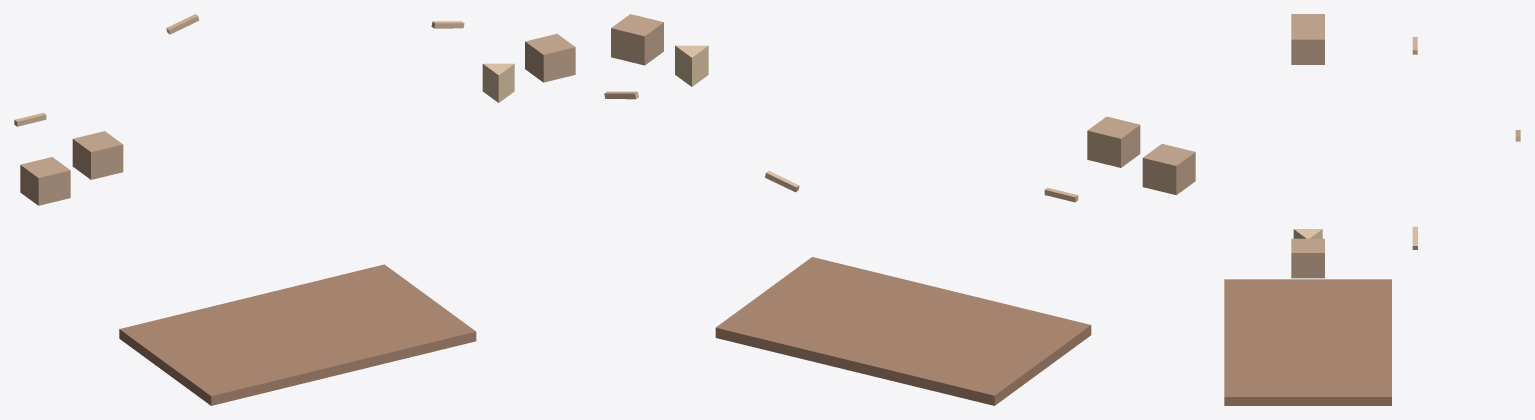
The model's file is exploded.glb.
The picture shows the model from 3 angles, left to right: view 1: azimuth 30°, elevation 25°; view 2: azimuth 150°, elevation 25°; view 3: azimuth 270°, elevation 25°; orthographic projection. The views are drawn at different scales.
Visible parts, largest first — view 1: substrate_concentrating_solar_power_mirror, 02_transport_medium_(free-space__fiber__tissue), 01_source_(emitter__external_illuminator), 04_thermal_path_and_safety_interlocks, 03_receiver__conversion_element; view 2: substrate_concentrating_solar_power_mirror, 01_source_(emitter__external_illuminator), 02_transport_medium_(free-space__fiber__tissue), 04_thermal_path_and_safety_interlocks, 03_receiver__conversion_element; view 3: substrate_concentrating_solar_power_mirror, 04_thermal_path_and_safety_interlocks, 02_transport_medium_(free-space__fiber__tissue), 01_source_(emitter__external_illuminator), 03_receiver__conversion_element.
Part boxes in pixels (<box>): substrate_concentrating_solar_power_mirror: <box>119,264,476,405</box>; 02_transport_medium_(free-space__fiber__tissue): <box>72,131,123,179</box>; 01_source_(emitter__external_illuminator): <box>20,157,70,205</box>; 04_thermal_path_and_safety_interlocks: <box>525,34,575,82</box>; 03_receiver__conversion_element: <box>482,63,514,102</box>; substrate_concentrating_solar_power_mirror: <box>715,257,1091,405</box>; 01_source_(emitter__external_illuminator): <box>1142,143,1195,195</box>; 02_transport_medium_(free-space__fiber__tissue): <box>1087,116,1140,167</box>; 04_thermal_path_and_safety_interlocks: <box>611,14,663,65</box>; 03_receiver__conversion_element: <box>675,45,708,86</box>; substrate_concentrating_solar_power_mirror: <box>1224,279,1391,405</box>; 04_thermal_path_and_safety_interlocks: <box>1291,238,1324,278</box>; 02_transport_medium_(free-space__fiber__tissue): <box>1291,25,1324,64</box>; 01_source_(emitter__external_illuminator): <box>1291,14,1324,25</box>; 03_receiver__conversion_element: <box>1293,229,1322,238</box>.
Bounding box in the file's own units: 10.13 × 4.46 × 5.3.
